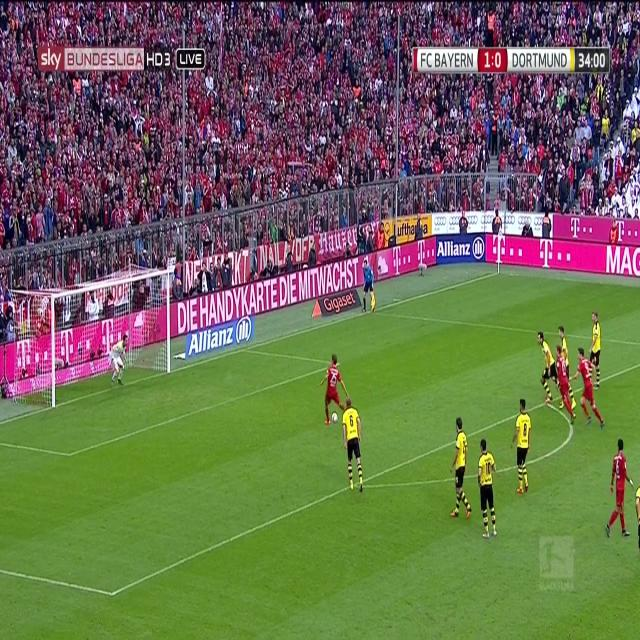Ball: (330, 410, 340, 425)
Goalkeeper: (107, 336, 130, 394)
Player: (602, 436, 634, 542), (573, 346, 606, 432), (449, 413, 474, 523), (320, 351, 350, 429), (341, 396, 365, 493), (512, 396, 534, 496), (477, 436, 497, 540), (534, 331, 556, 408), (586, 308, 606, 391), (554, 348, 575, 422), (556, 323, 574, 376)
Referee: (360, 259, 377, 316)
